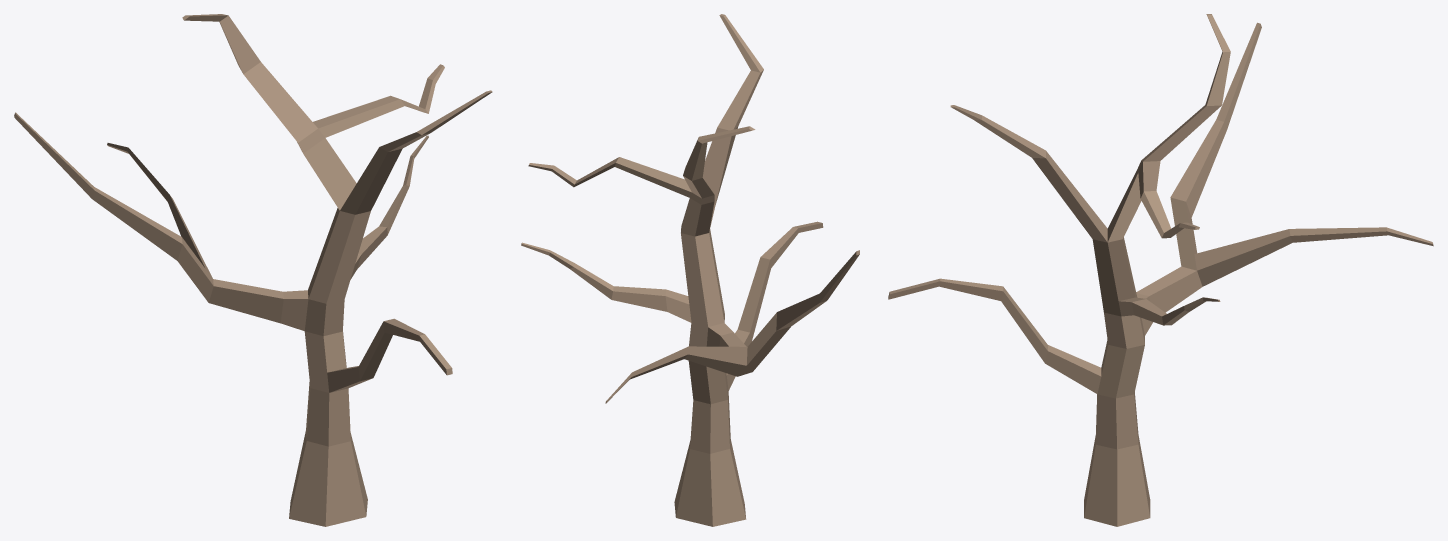
The model's file is Dead-Tree.fbx.
The picture shows the model from 3 angles, left to right: view 1: azimuth 30°, elevation 25°; view 2: azimuth 150°, elevation 25°; view 3: azimuth 270°, elevation 25°; orthographic projection. The views are drawn at different scales.
Parts seen in each view (by area): view 1: Cube; view 2: Cube; view 3: Cube.
Boxes of the visible parts, x1,y1,x2,y2 form: Cube: (14, 14, 492, 526); Cube: (521, 14, 859, 526); Cube: (888, 14, 1433, 526).
Size of the model in its own units: 392 by 453 by 495.
